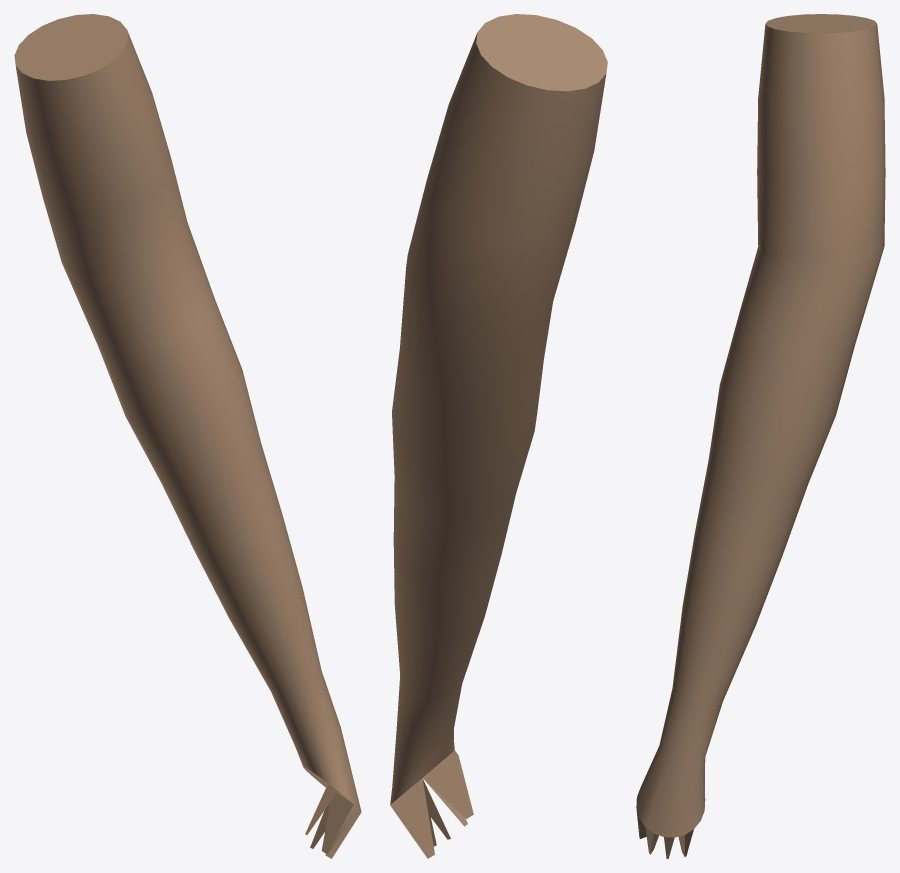
File: DismemberedArm.fbx
3 views of the same model, side by side, from view 1: azimuth 30°, elevation 25°; view 2: azimuth 150°, elevation 25°; view 3: azimuth 270°, elevation 25° (orthographic). The views are drawn at different scales.
Parts seen in each view (by area): view 1: Dismembered_arm; view 2: Dismembered_arm; view 3: Dismembered_arm.
Boxes of the visible parts, left/top/right/bottom form: Dismembered_arm: left=14, top=14, right=361, bottom=858; Dismembered_arm: left=390, top=14, right=607, bottom=858; Dismembered_arm: left=636, top=14, right=885, bottom=858.
Size of the model in its own units: 0.3659 by 1.11 by 0.3268.
